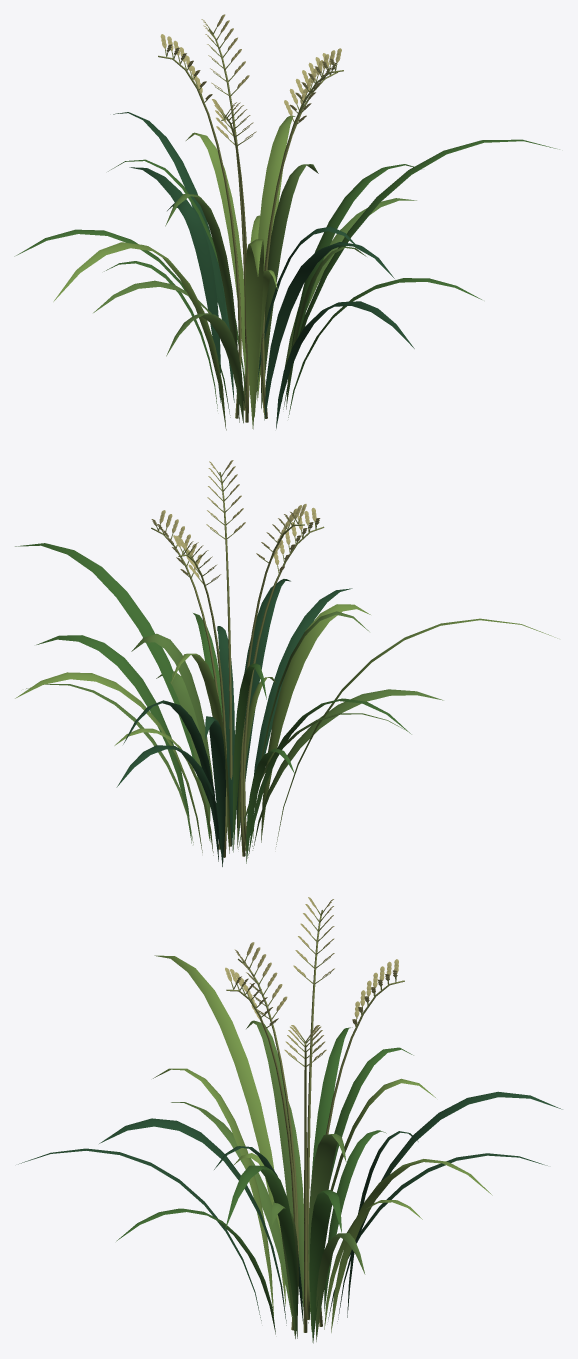
The model's file is meadow_grass_seed.hi.glb.
The picture shows the model from 3 angles, top to bottom: view 1: azimuth 30°, elevation 25°; view 2: azimuth 150°, elevation 25°; view 3: azimuth 270°, elevation 25°; orthographic projection. The views are drawn at different scales.
Parts seen in each view (by area): view 1: body; view 2: body; view 3: body.
Boxes of the visible parts, x1,y1,x2,y2 form: body: (14,14,559,430); body: (15,460,557,866); body: (18,897,562,1343).
Size of the model in its own units: 1.21 by 0.8215 by 1.05.
